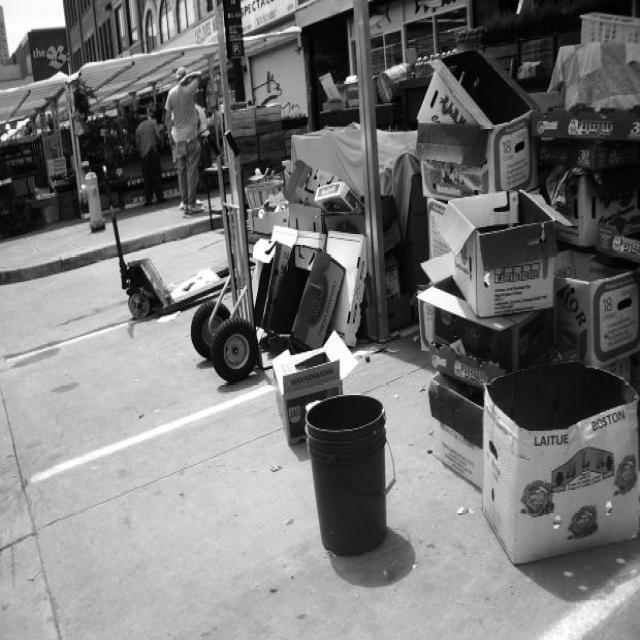cardboard: (386, 72, 639, 498), (242, 189, 355, 340), (272, 354, 350, 408)
